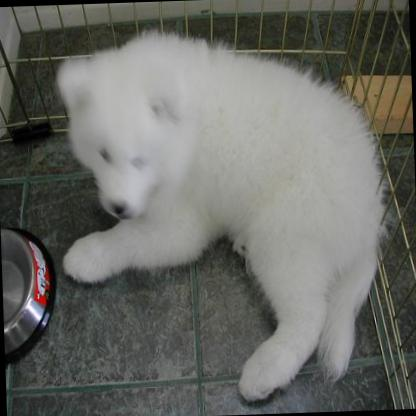Samoyed: (51, 19, 392, 406)
